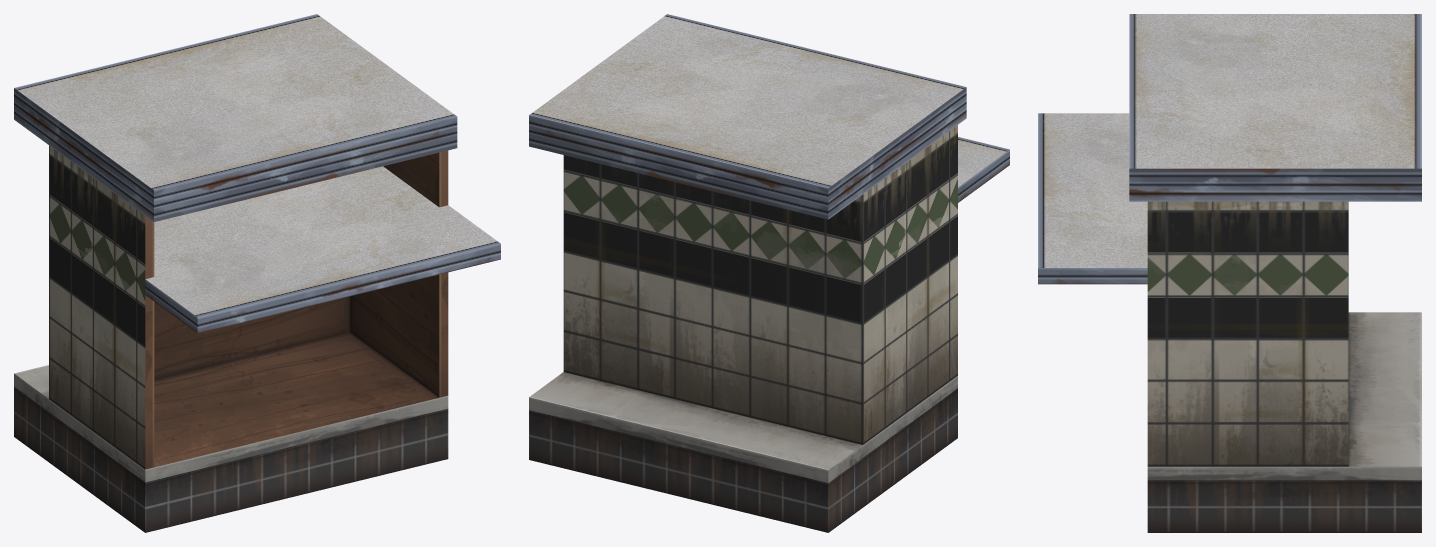
Rendered from KTB0110012.fbx.
The picture shows the model from 3 angles, left to right: view 1: azimuth 30°, elevation 25°; view 2: azimuth 150°, elevation 25°; view 3: azimuth 270°, elevation 25°; orthographic projection. The views are drawn at different scales.
Visible parts, largest first — view 1: smKTB0110012; view 2: smKTB0110012; view 3: smKTB0110012.
Part boxes in pixels (left/top/right/bottom): smKTB0110012: left=14, top=14, right=500, bottom=532; smKTB0110012: left=529, top=14, right=1009, bottom=532; smKTB0110012: left=1038, top=14, right=1421, bottom=532.
Size of the model in its own units: 100 by 110 by 105.
1 material, 1 textured.
